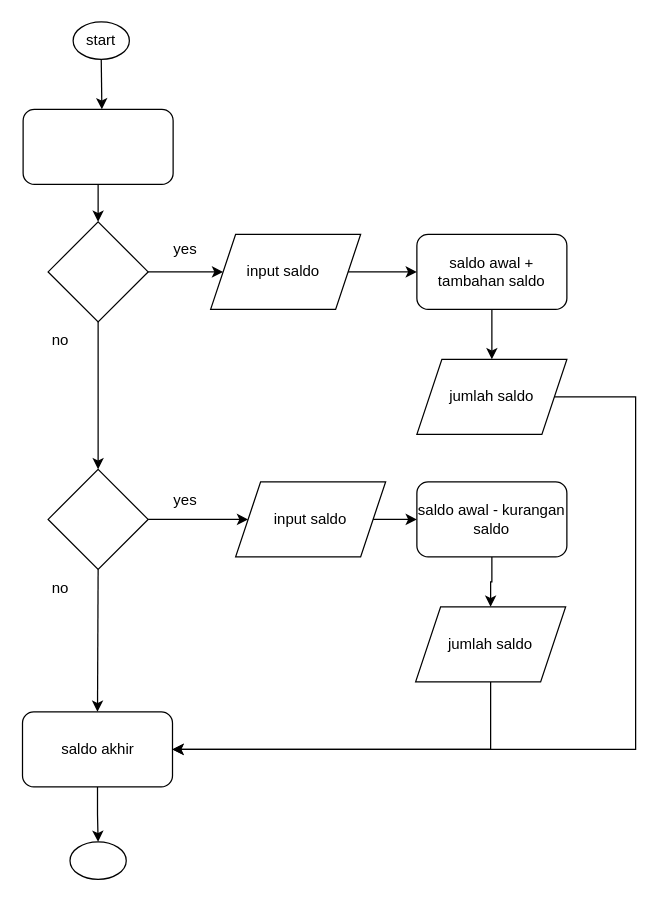
The diagram is 668 pixels wide and 901 high, and some of its shapes have lost their labels. The centre of each missing label's shape, as x and y in pixels:
"end" belongs at pixel 97 860.
"kurangi saldo?" belongs at pixel 97 518.
"saldo awal" belongs at pixel 97 146.
"tambah saldo?" belongs at pixel 97 271.
